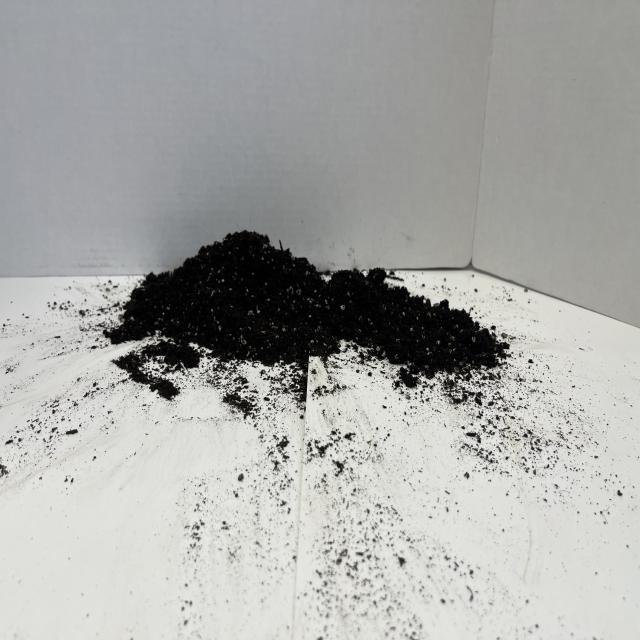soil: (104, 226, 512, 384)
